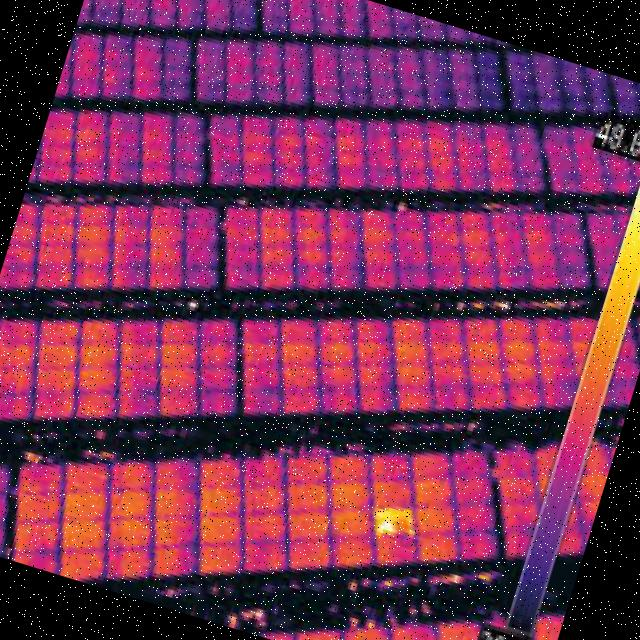Hotspot: (367, 500, 420, 545)
